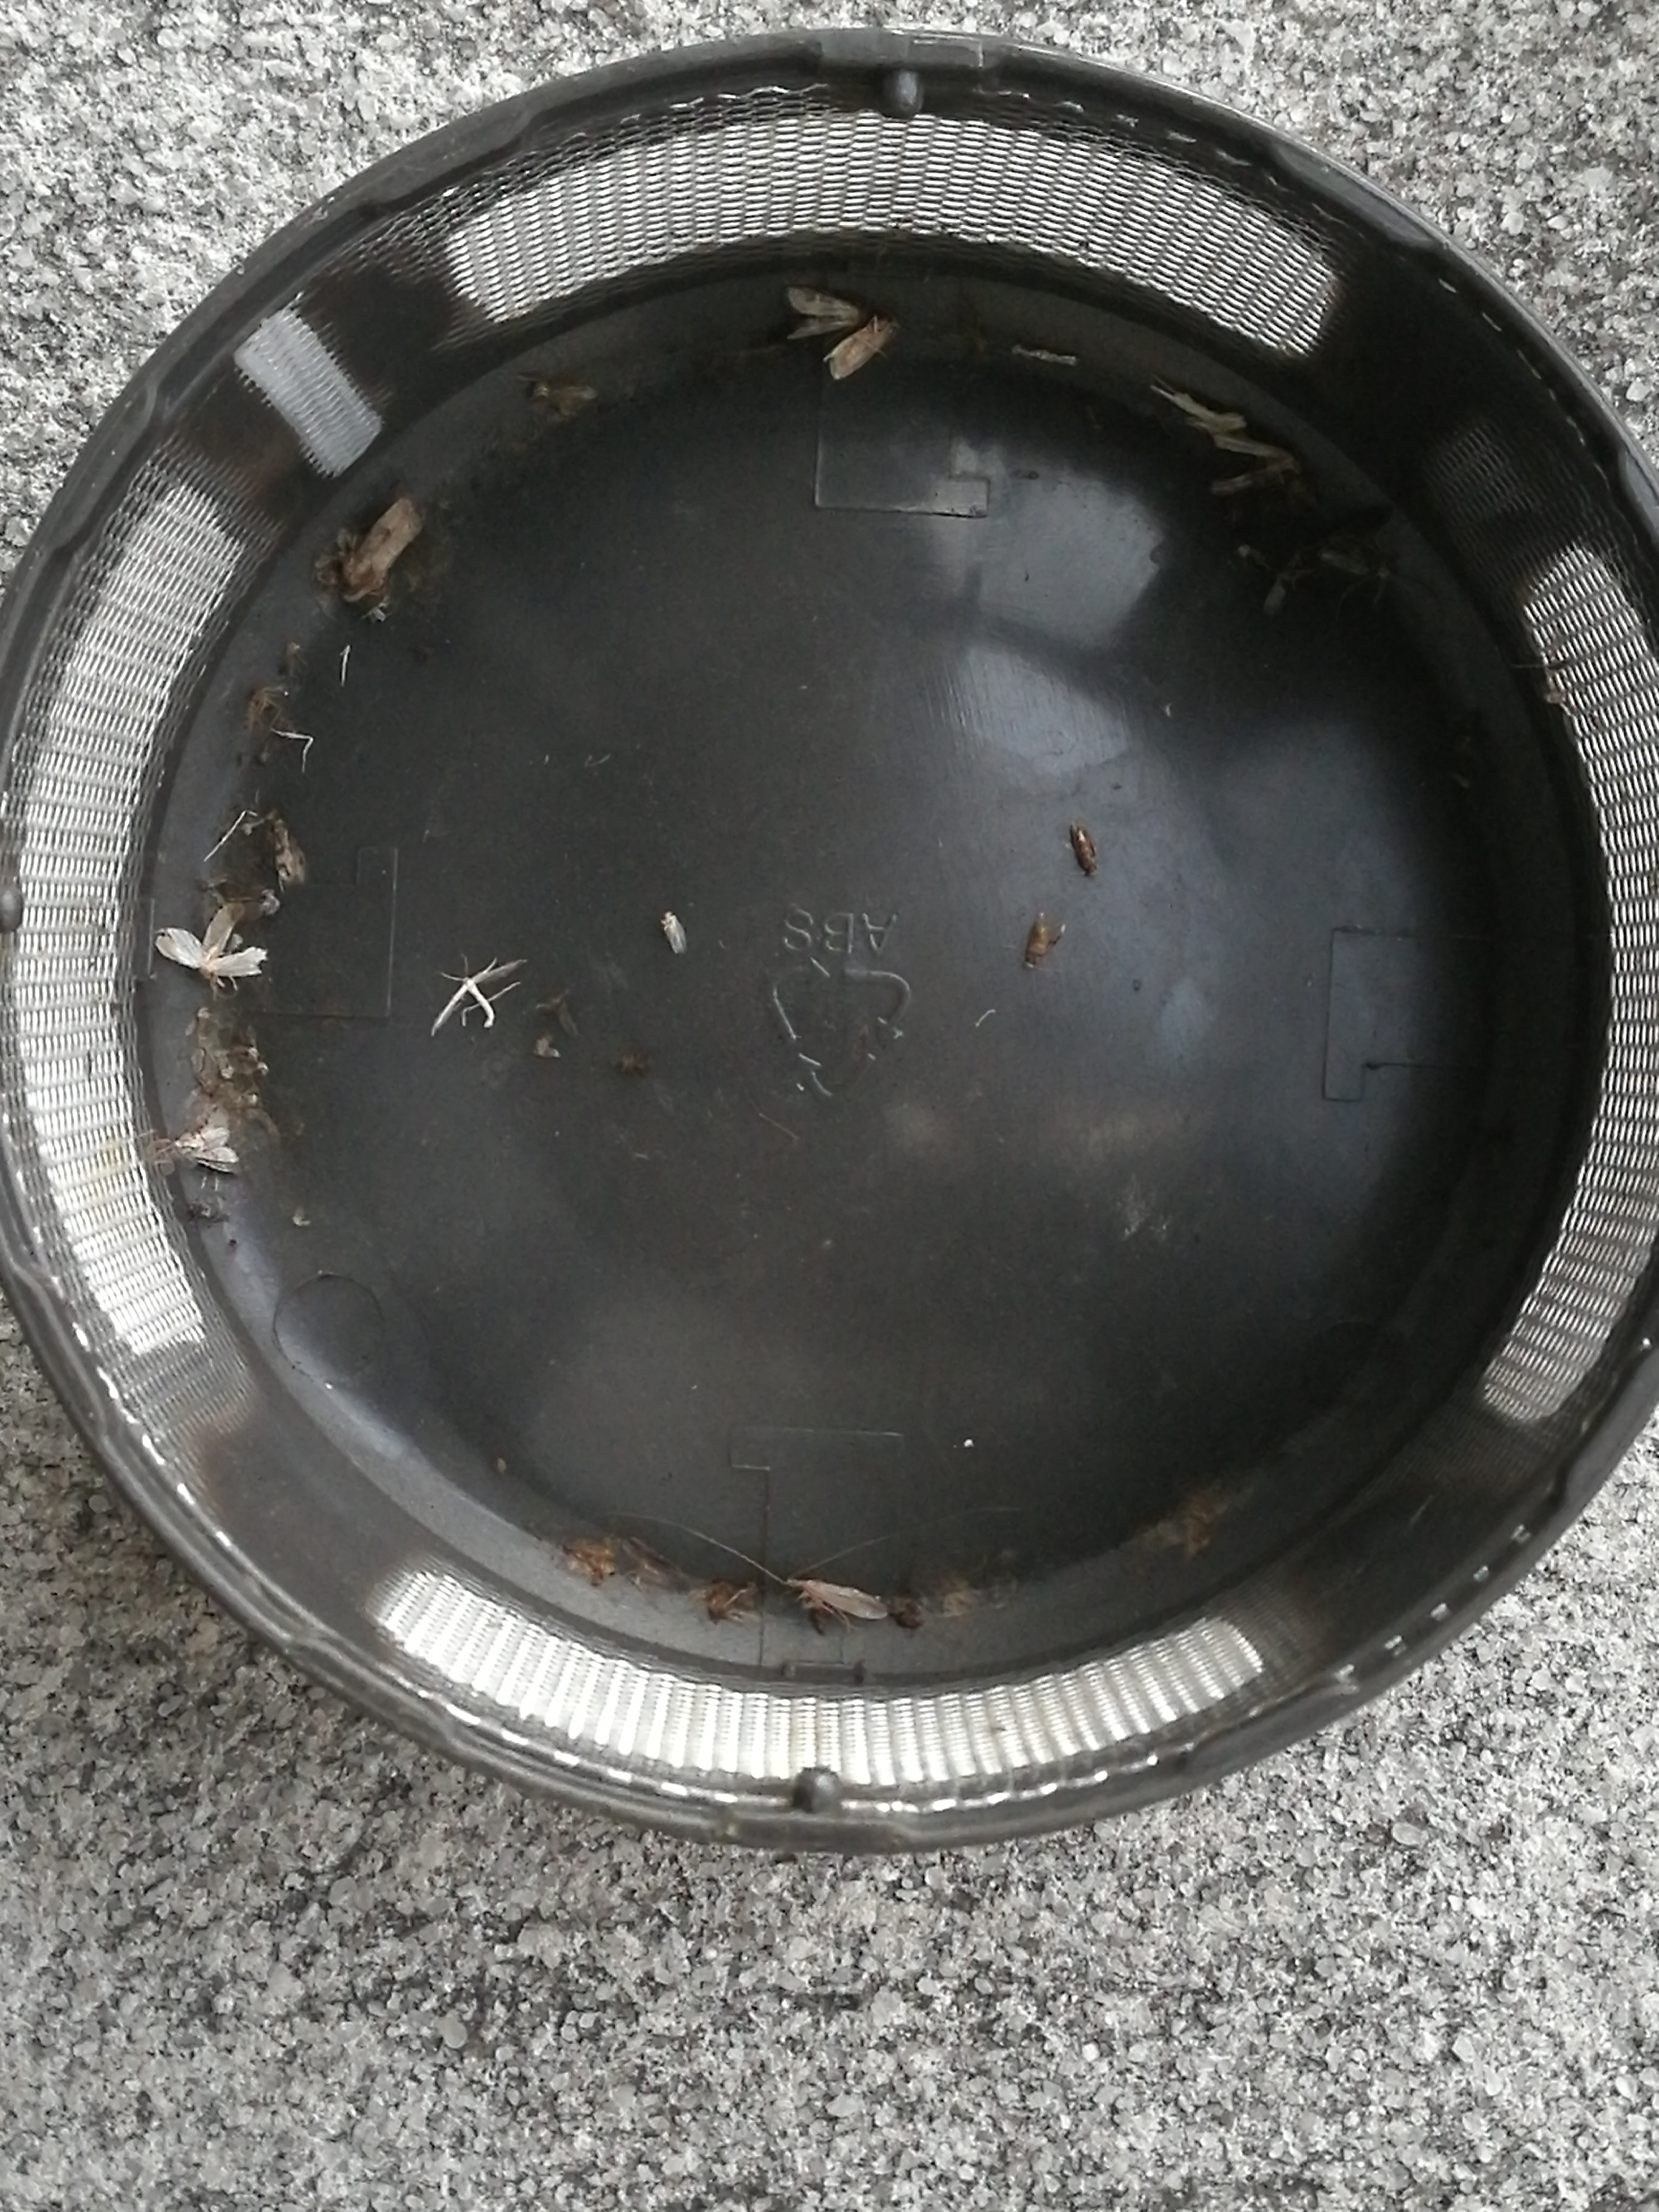mosquito: (784, 1578, 887, 1620), (1265, 550, 1305, 618), (1072, 824, 1096, 874), (662, 911, 685, 953)
moth: (157, 902, 268, 977), (343, 495, 422, 601), (823, 315, 903, 380), (784, 286, 859, 340), (174, 1111, 237, 1172), (274, 812, 305, 888), (1026, 913, 1065, 968)
